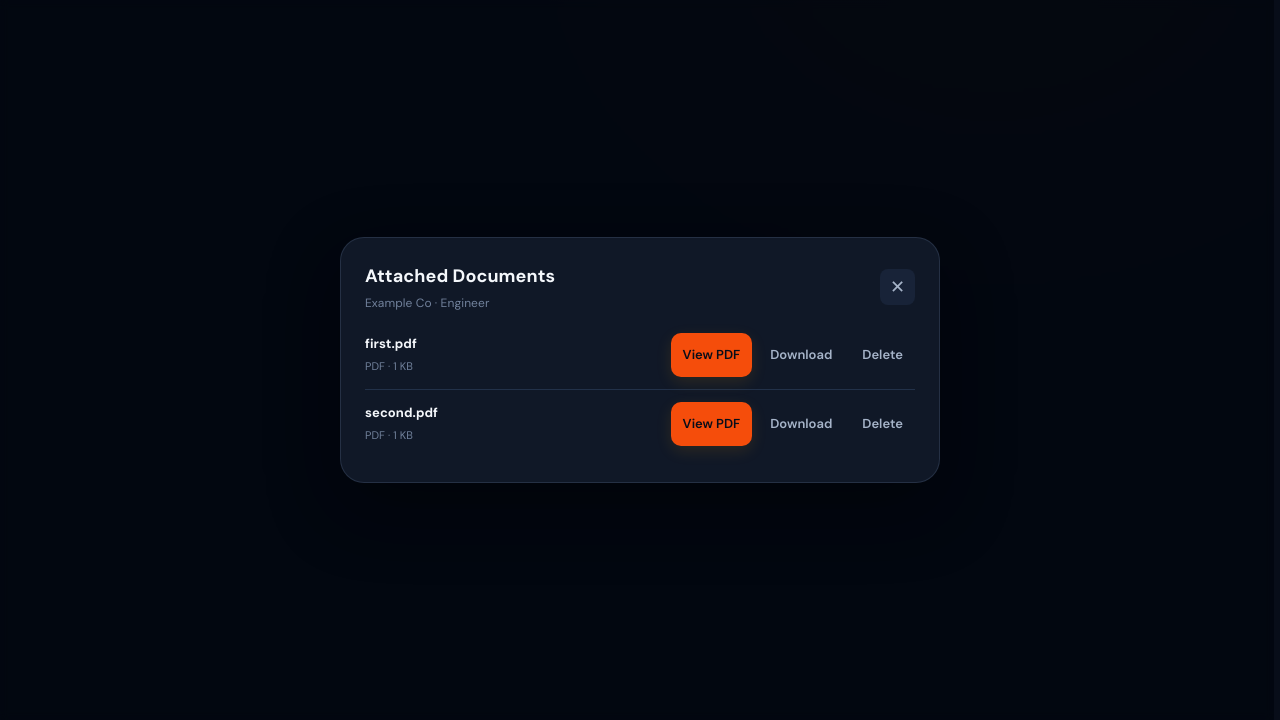
Test: does not render a non-PDF response as a successful preview
This screenshot has width=1280, height=720.
Click the button "View PDF" in the row of "first.pdf": coordinates (711, 355) [671,333,752,377]
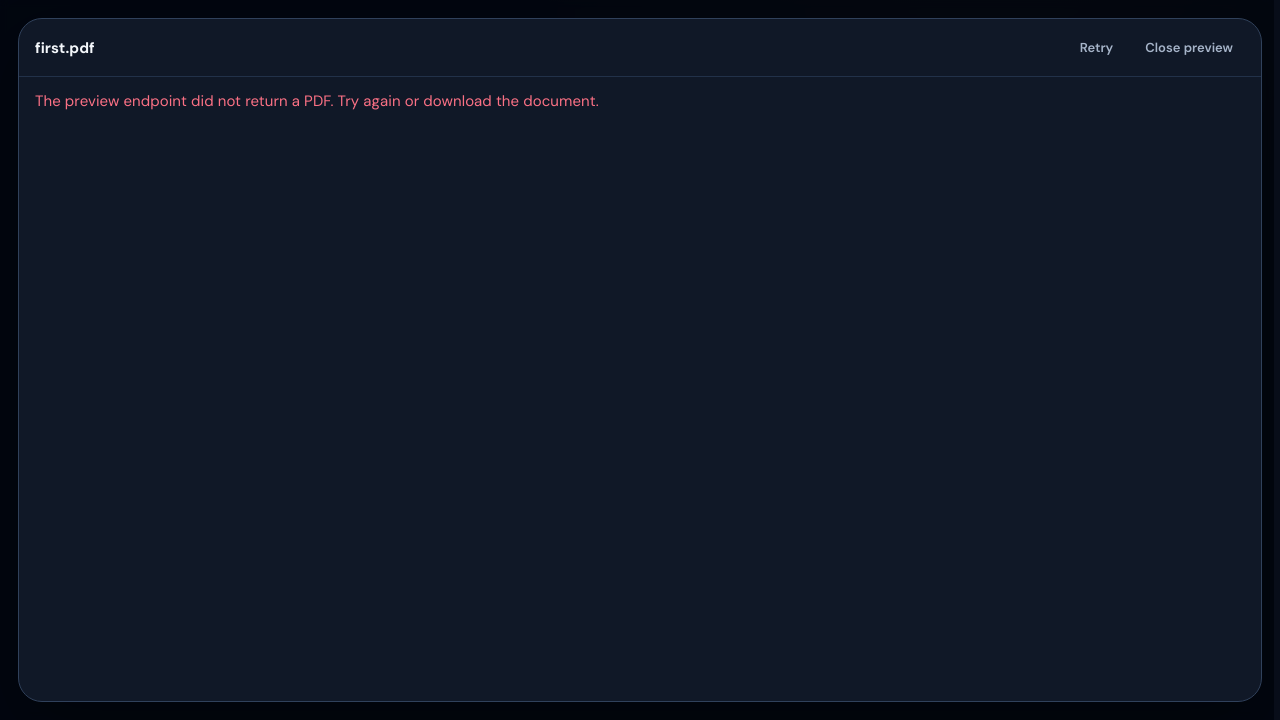
Result: the text "preview endpoint did not return a PDF" is shown at [35,91,599,111]
